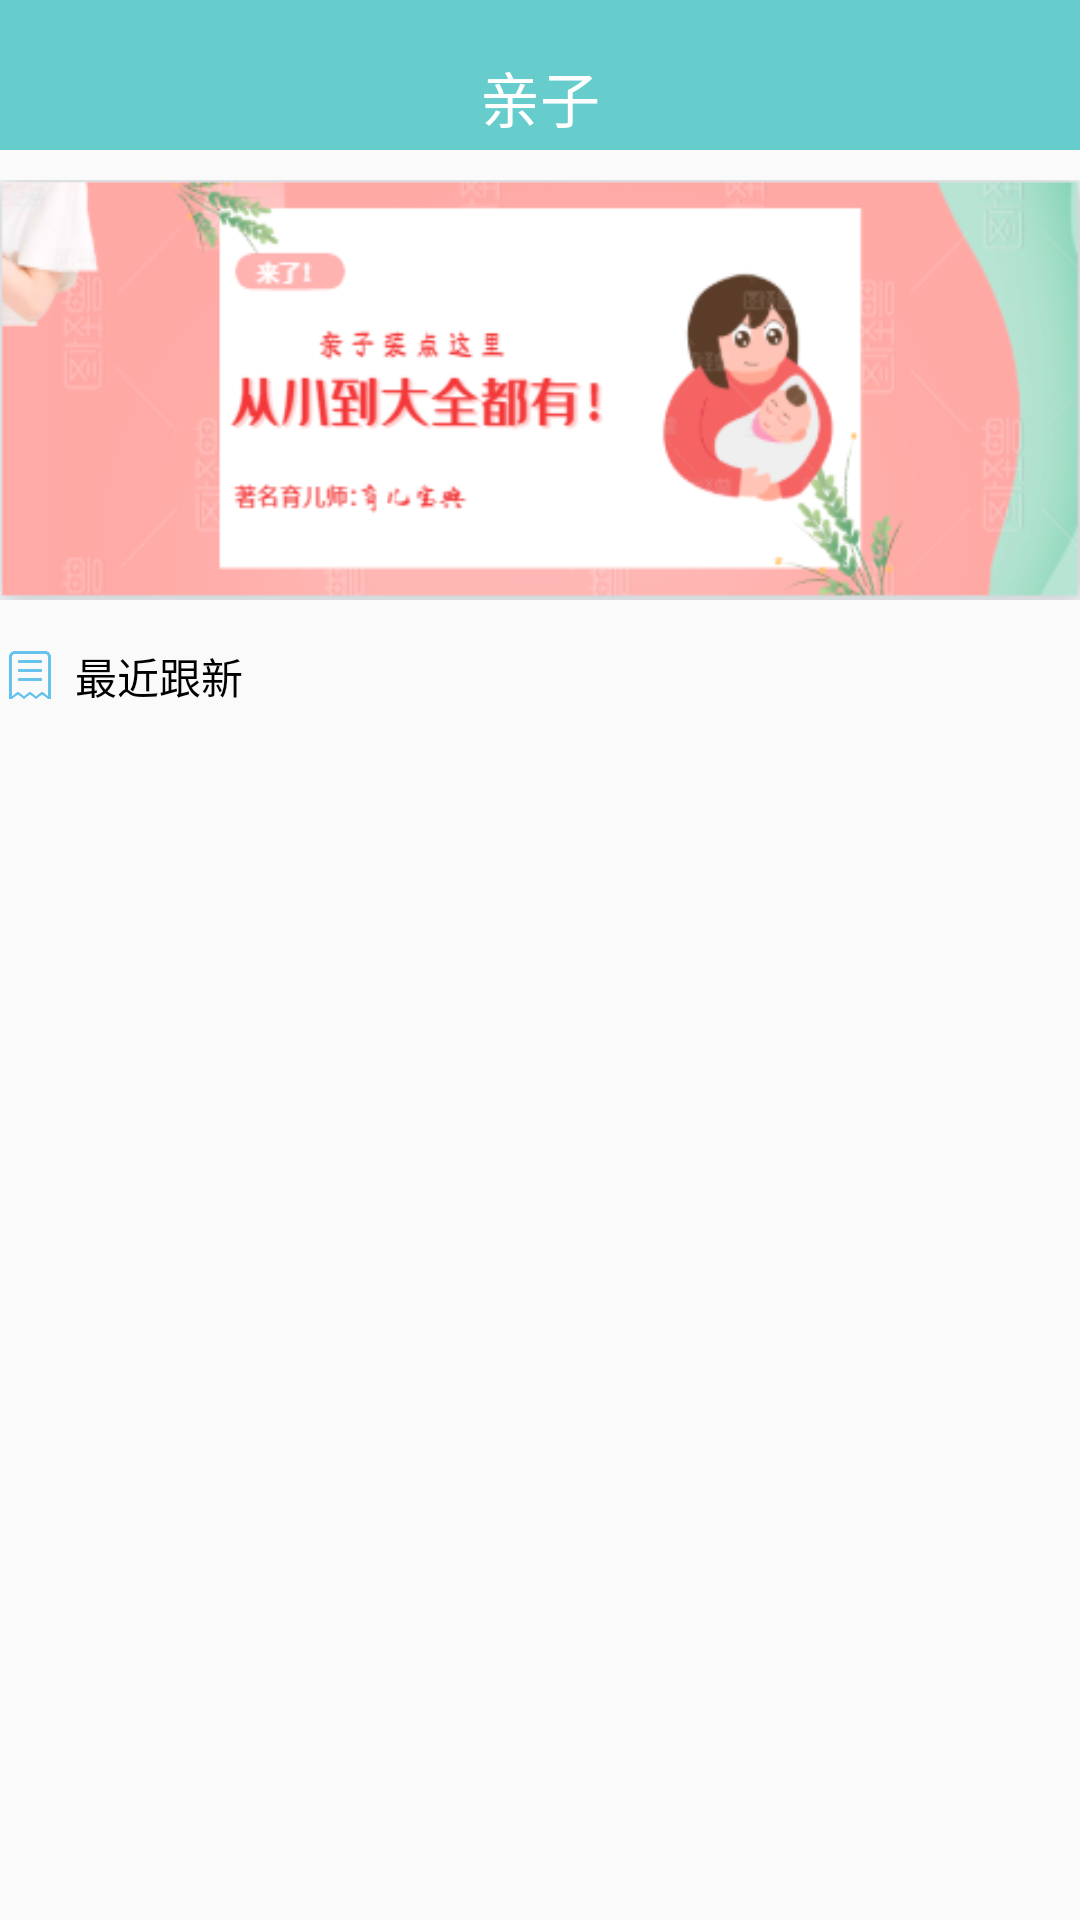

Screen size 1080px x 1920px. Icon name, then its center in pixels as (x,y):
note: (30,675)
